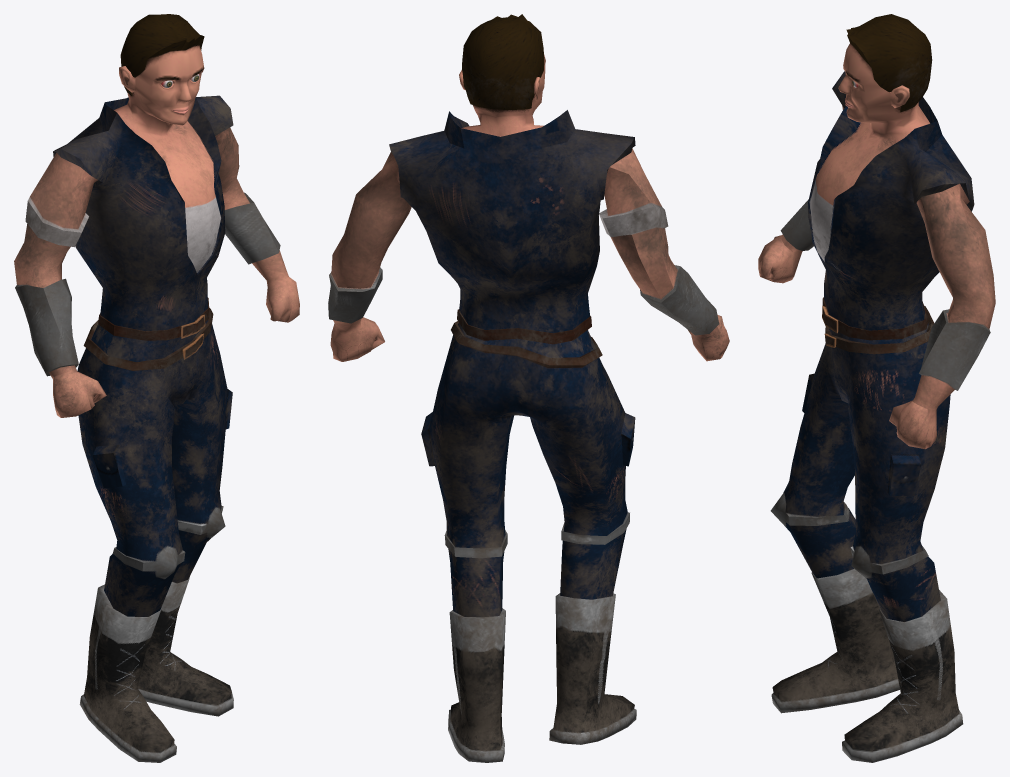
The model's file is Anim_abrir_puerta_ok_jugador.0018.obj.
The picture shows the model from 3 angles, left to right: view 1: azimuth 30°, elevation 25°; view 2: azimuth 150°, elevation 25°; view 3: azimuth 270°, elevation 25°; orthographic projection. The views are drawn at different scales.
Parts seen in each view (by area): view 1: polySurface1; view 2: polySurface1; view 3: polySurface1.
Boxes of the visible parts, bbox=[...] form: polySurface1: bbox=[14, 14, 299, 762]; polySurface1: bbox=[328, 14, 729, 762]; polySurface1: bbox=[758, 14, 995, 762].
Bounding box in the file's own units: 4.53 × 9.56 × 2.88.
